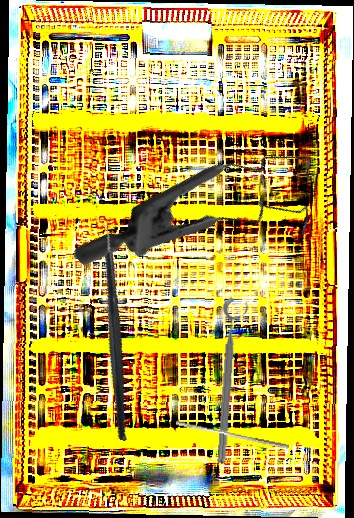Chopper: (36, 215, 184, 442)
Fixation Ring: (212, 296, 251, 465)
Pusher: (175, 420, 290, 449)
Speculum: (70, 81, 344, 361)
